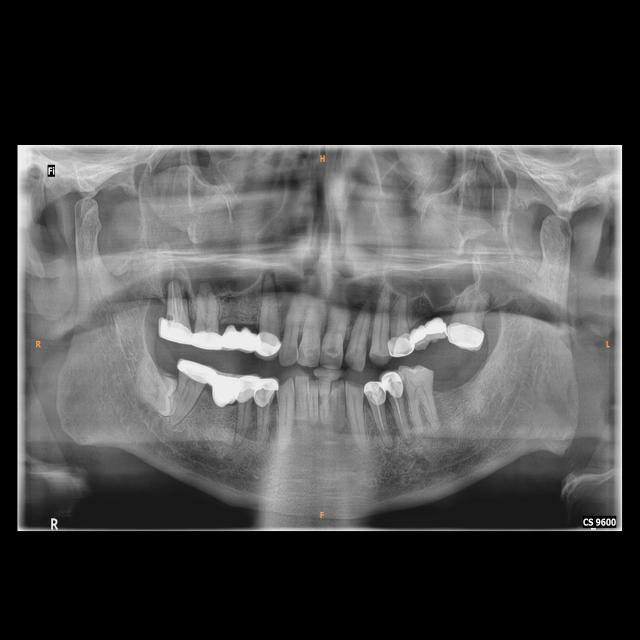kanal-tedavisi: (168, 280, 184, 319), (394, 398, 405, 433), (376, 405, 386, 439)
kaplama: (449, 322, 485, 351), (176, 359, 214, 383), (255, 372, 278, 408), (158, 321, 192, 344), (380, 370, 405, 399), (192, 330, 224, 352), (258, 330, 282, 358), (386, 334, 414, 356), (236, 371, 257, 400), (364, 382, 386, 402)
kopru: (220, 317, 259, 357), (412, 308, 446, 350), (209, 367, 239, 413)
